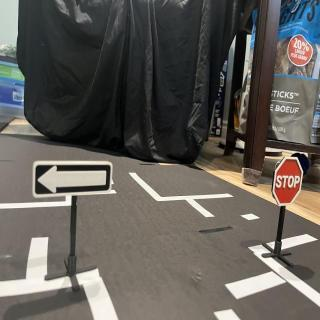sign_oneway_left: (32, 159, 114, 199)
sign_stop: (274, 159, 304, 206)
